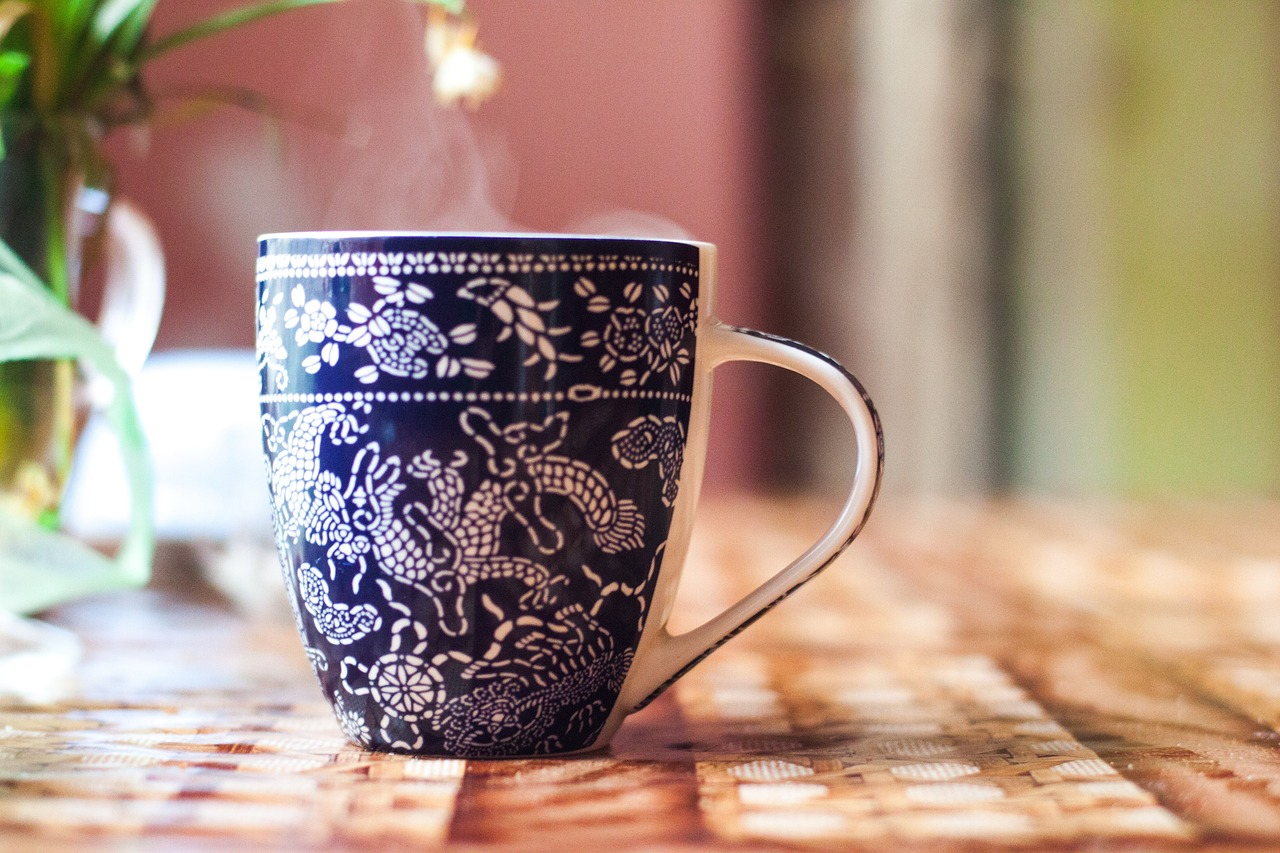mug: (222, 186, 903, 786)
